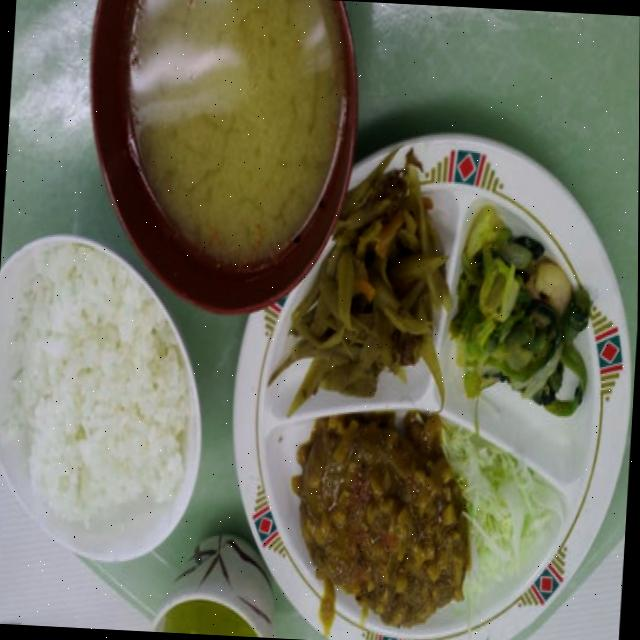汤锅炖物: (77, 0, 351, 279)
米饭主食: (0, 236, 211, 565)
蔬菜料理: (260, 167, 463, 415)
